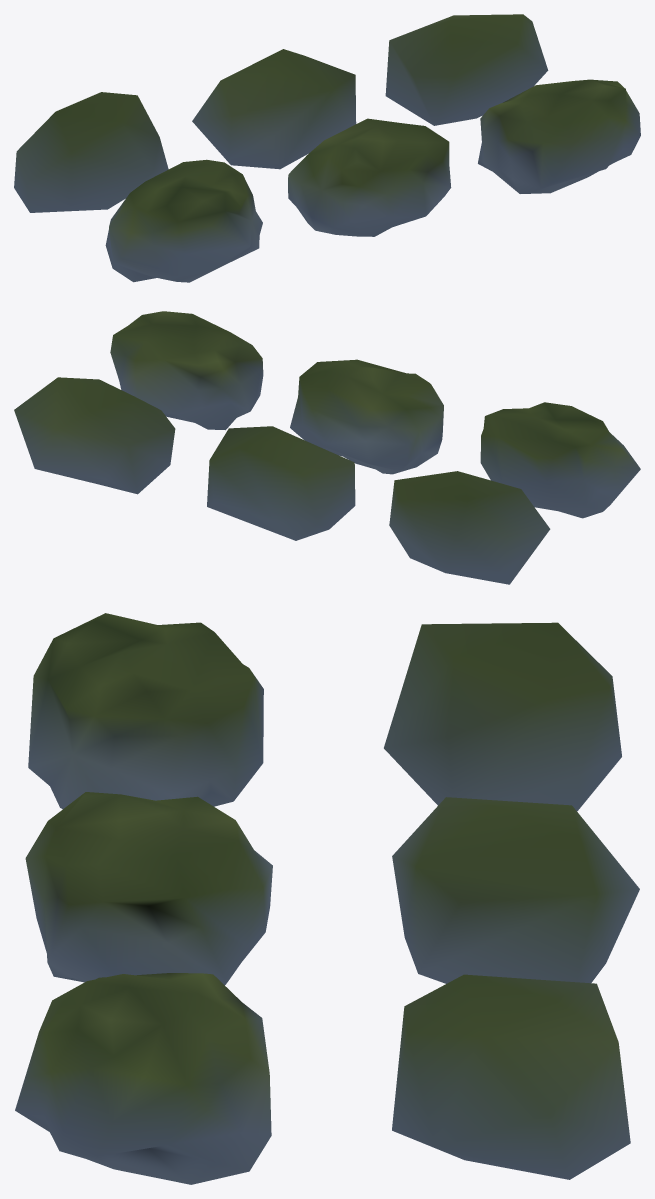
The model's file is distant-rocks.glb.
3 renders of one model, top to bottom at view 1: azimuth 30°, elevation 25°; view 2: azimuth 150°, elevation 25°; view 3: azimuth 270°, elevation 25°, orthographic. The views are drawn at different scales.
Parts seen in each view (by area): view 1: Shelf1, Shelf0, Shelf2, Talus2, Talus0, Talus1; view 2: Talus2, Shelf1, Shelf2, Talus0, Shelf0, Talus1; view 3: Shelf2, Talus2, Shelf1, Shelf0, Talus1, Talus0.
Boxes of the visible parts, <box> form: Shelf1: <box>288,118,451,236</box>; Shelf0: <box>105,159,262,282</box>; Shelf2: <box>478,79,640,193</box>; Talus2: <box>385,14,548,125</box>; Talus0: <box>14,92,168,212</box>; Talus1: <box>192,49,356,169</box>; Talus2: <box>14,377,175,494</box>; Shelf1: <box>290,359,443,474</box>; Shelf2: <box>110,311,263,430</box>; Talus0: <box>389,471,550,584</box>; Shelf0: <box>480,402,640,518</box>; Talus1: <box>207,426,355,540</box>; Shelf2: <box>15,973,271,1184</box>; Talus2: <box>392,974,630,1179</box>; Shelf1: <box>25,792,272,985</box>; Shelf0: <box>28,613,263,808</box>; Talus1: <box>392,797,639,983</box>; Talus0: <box>384,622,621,811</box>.
Size of the model in its own units: 8.24 by 1.36 by 4.36.
